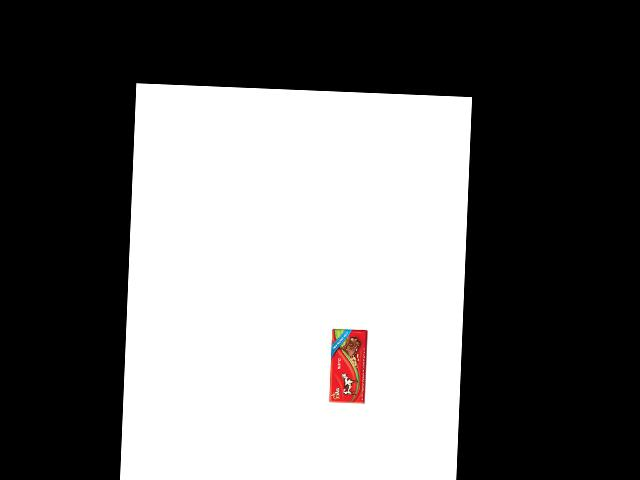chocolate: (328, 329, 366, 406)
